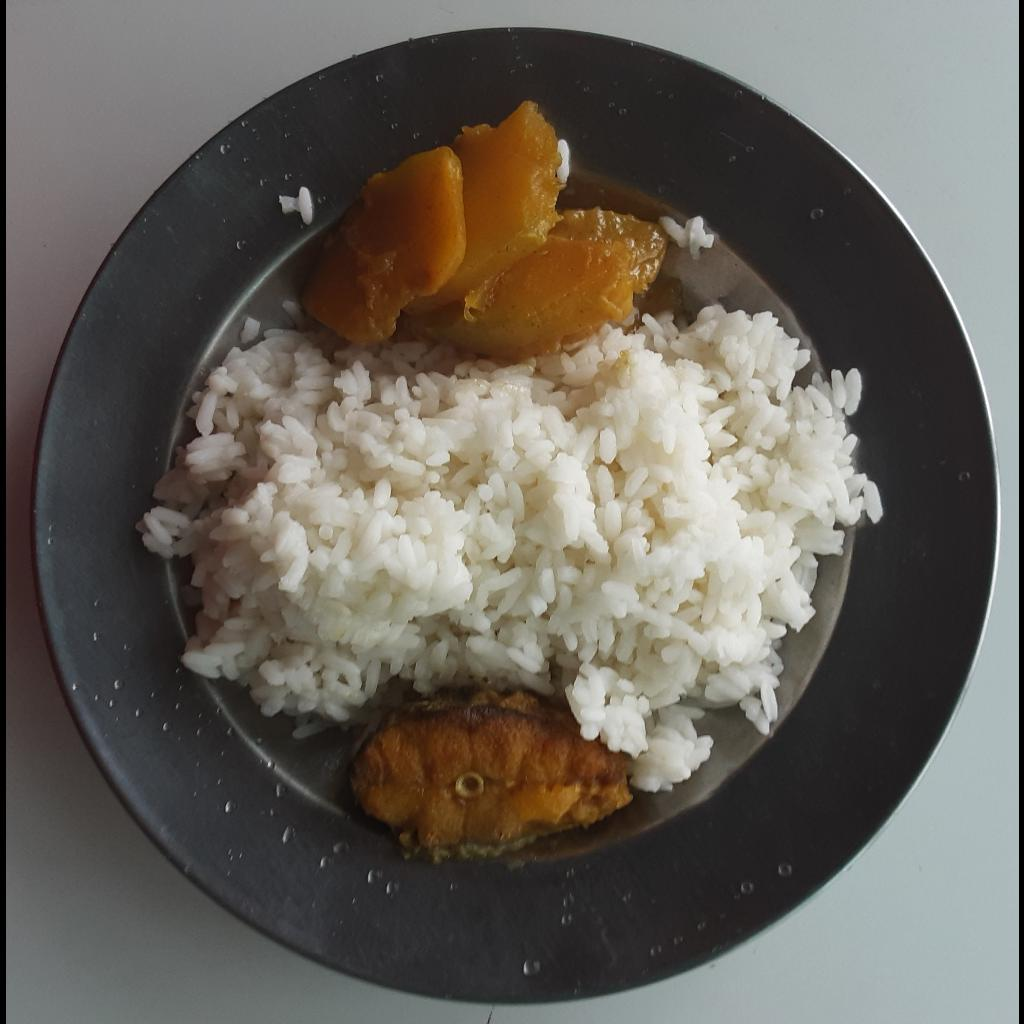fish: (346, 688, 634, 859)
kumra-vaji: (302, 96, 664, 362)
rice: (133, 299, 881, 795)
